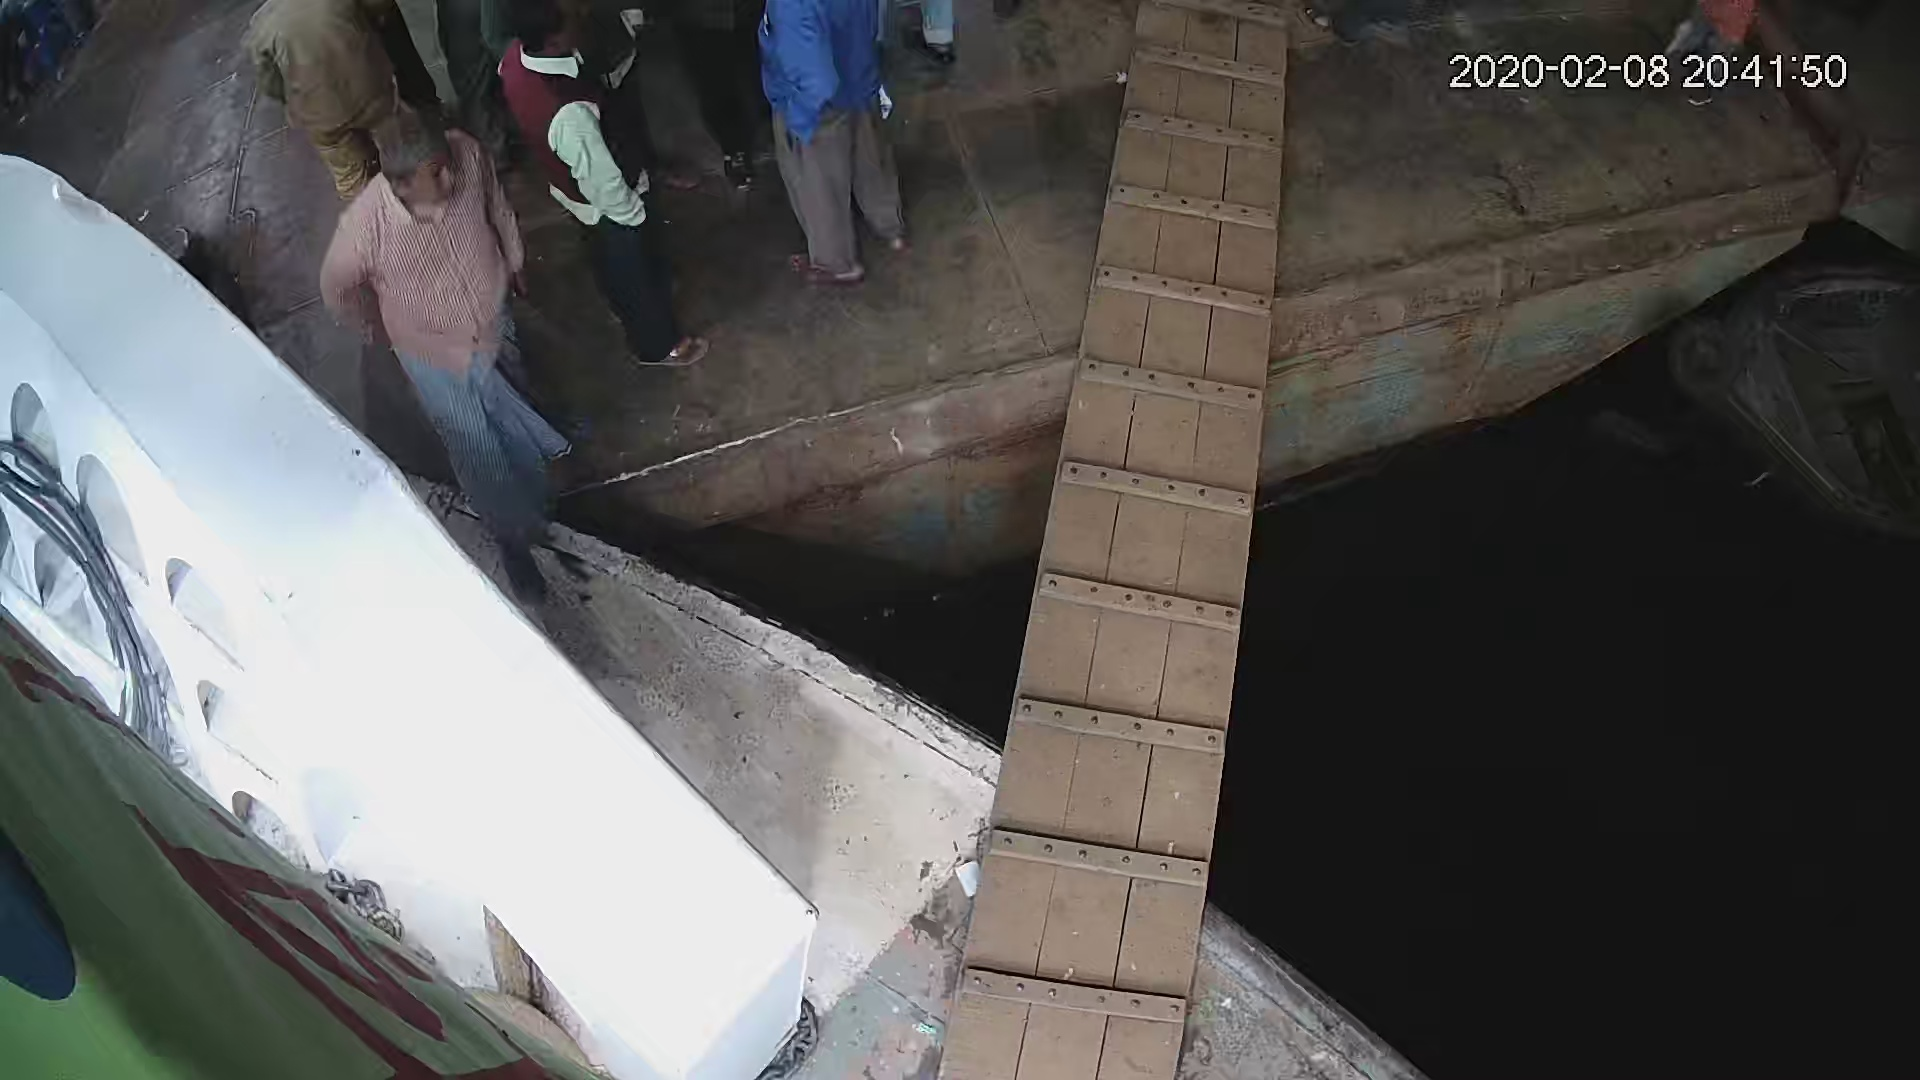person: (327, 105, 579, 605), (479, 1, 719, 374), (761, 1, 917, 297)
